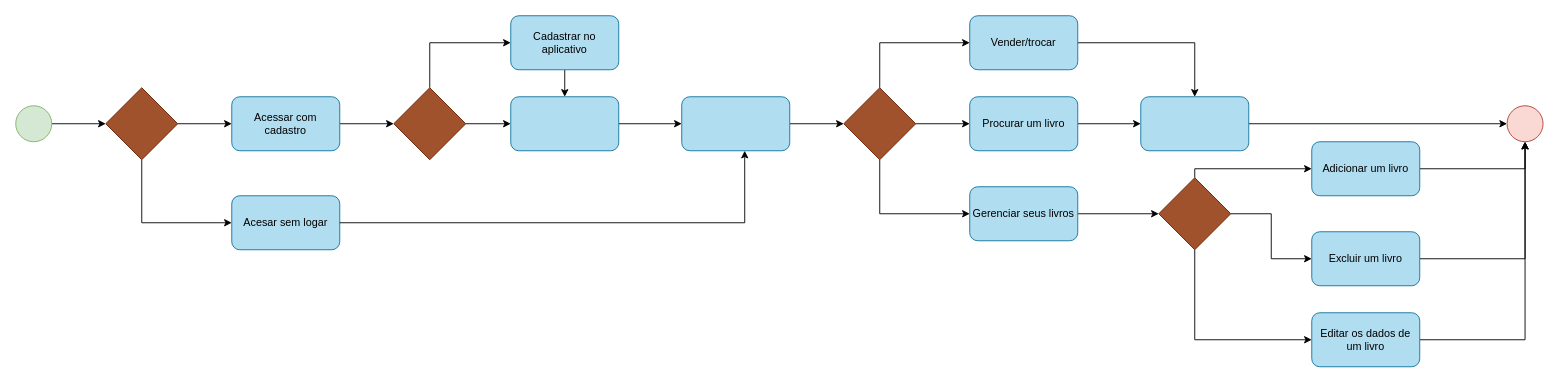
The diagram is 1559 pixels wide and 383 high, and some of its shapes have lost their labels. The shapes that lost their labels are listed below. From the top down, each one's centre as x and y in pixels, then its label:
At point 564,123: "Logar".
At point 735,123: "Acessar Home".
At point 1194,123: "conversar com outro usuário cadastrado".
